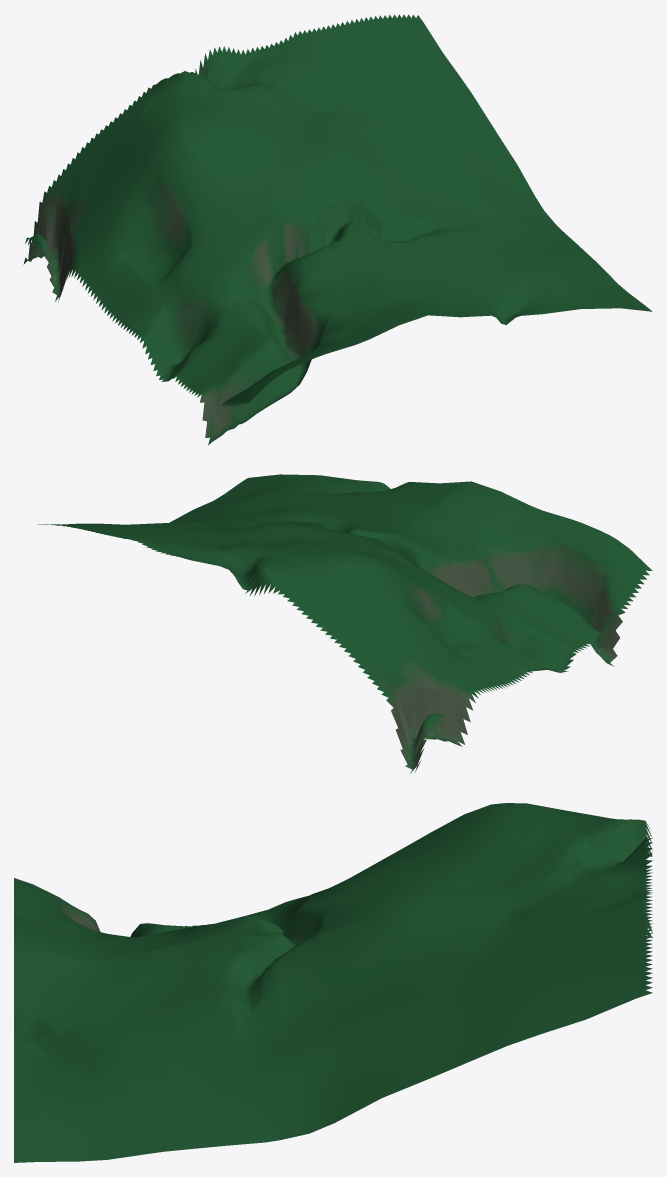
Rendered from payo_land_xm2_y2_lod2.glb.
3 views of the same model, one above another, from view 1: azimuth 30°, elevation 25°; view 2: azimuth 150°, elevation 25°; view 3: azimuth 270°, elevation 25° (orthographic). The views are drawn at different scales.
Parts seen in each view (by area): view 1: payo_land_xm2_y2; view 2: payo_land_xm2_y2; view 3: payo_land_xm2_y2.
Part boxes in pixels (x1,y1,x2,y2): payo_land_xm2_y2: (23,14,652,445); payo_land_xm2_y2: (38,474,652,773); payo_land_xm2_y2: (14,803,652,1162).
Size of the model in its own units: 258 by 124 by 258.
